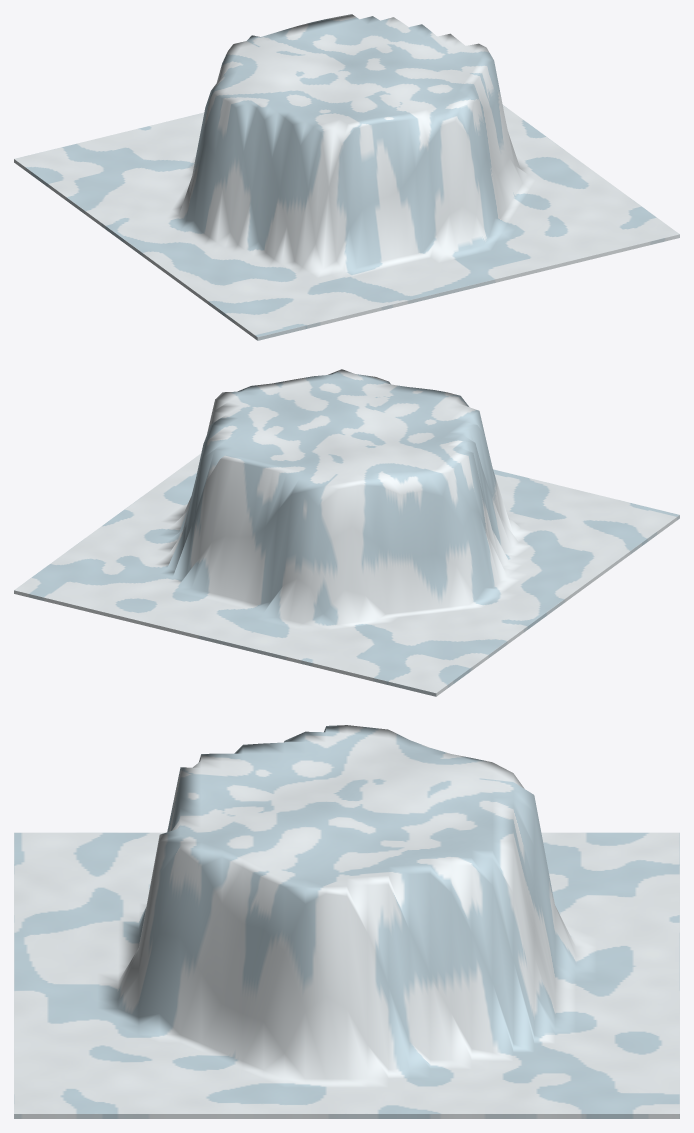
File: Snow_Mountains_04.obj
3 views of the same model, one above another, from view 1: azimuth 30°, elevation 25°; view 2: azimuth 150°, elevation 25°; view 3: azimuth 270°, elevation 25° (orthographic). The views are drawn at different scales.
Size of the model in its own units: 10 by 2.92 by 10.
Materials: 1 (1 with a texture image).
